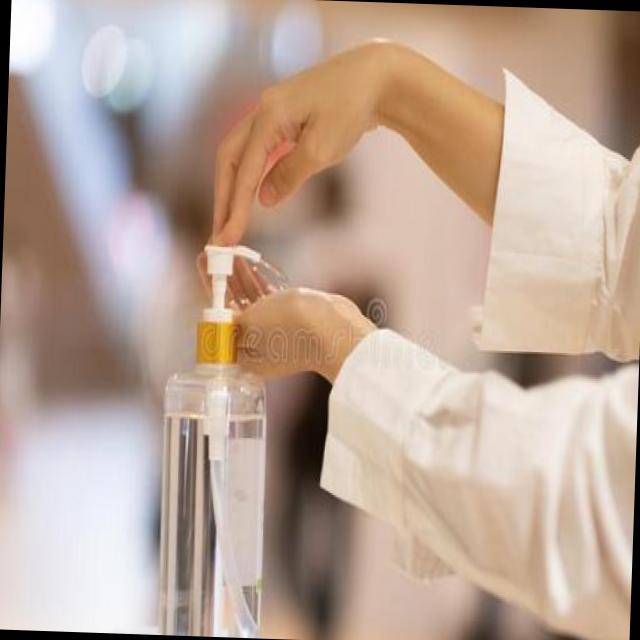sanitizer: (154, 235, 274, 636)
